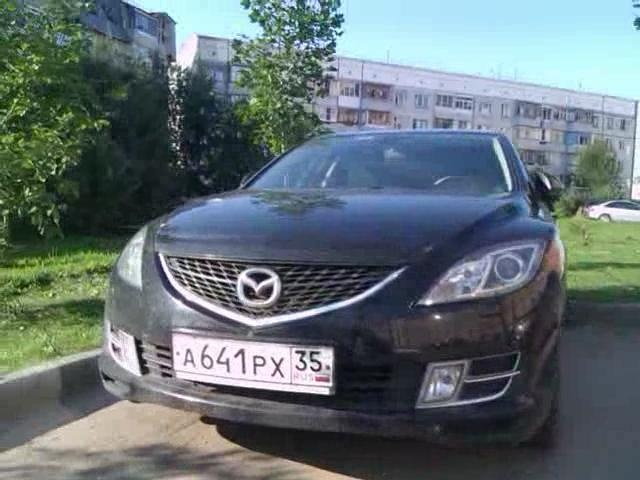car license plate: (175, 328, 336, 402)
